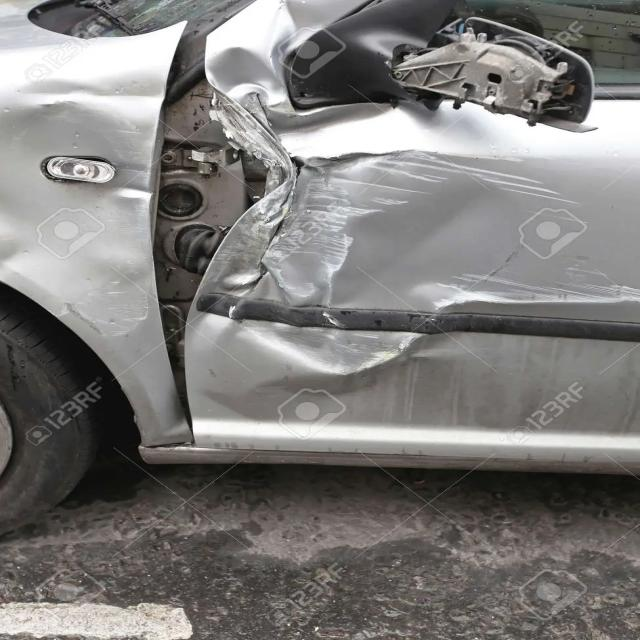crush: (0, 0, 640, 452)
